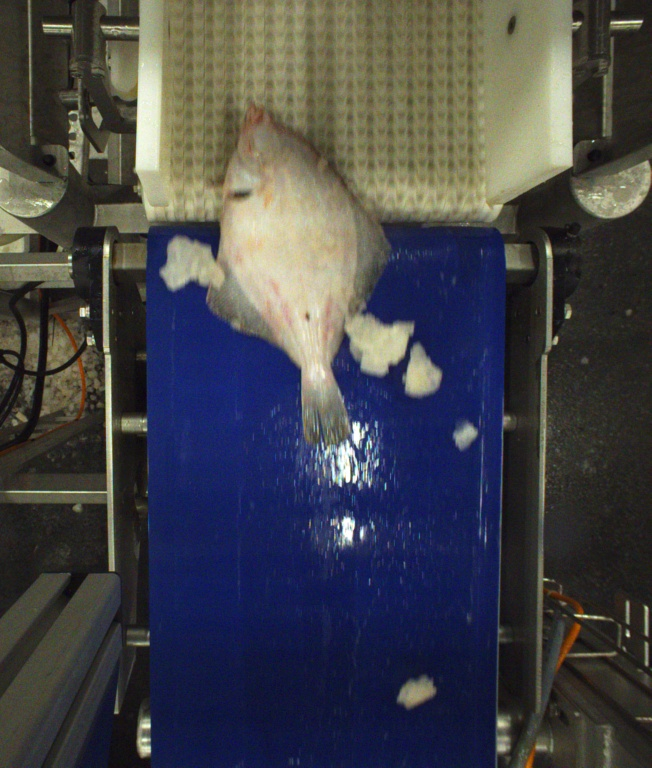PLE: (204, 104, 394, 451)
